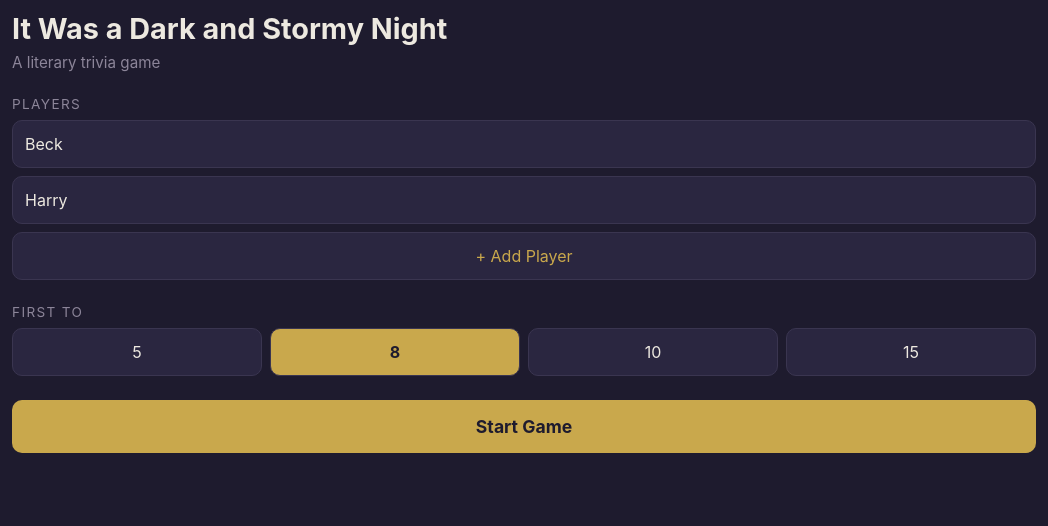
Test: Setup › adds a player when + Add Player is clicked
Click the button "+ Add Player" at (524, 256), box [12,232,1036,280]
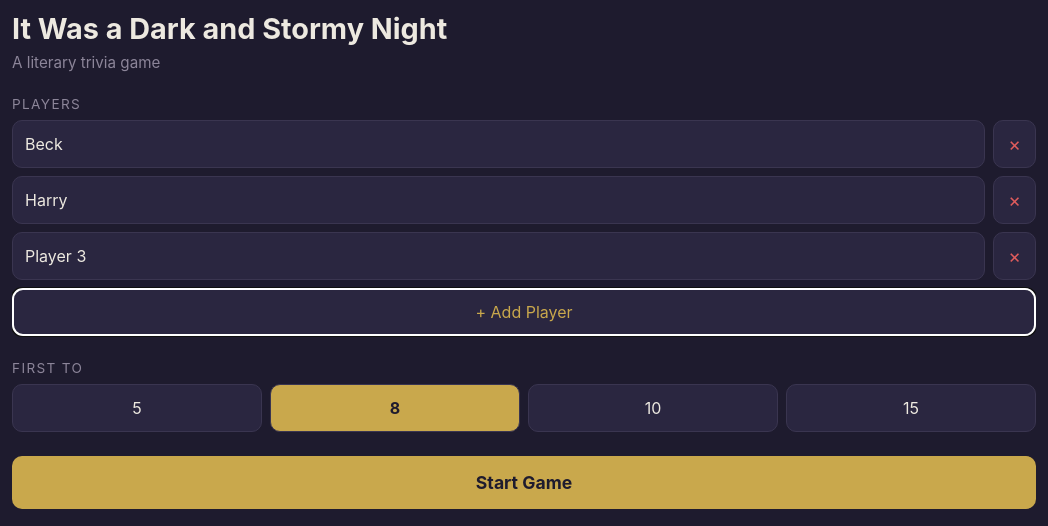
Result: the number of fields is 3 at [12,120,985,168]; [12,176,985,224]; [12,232,985,280]
